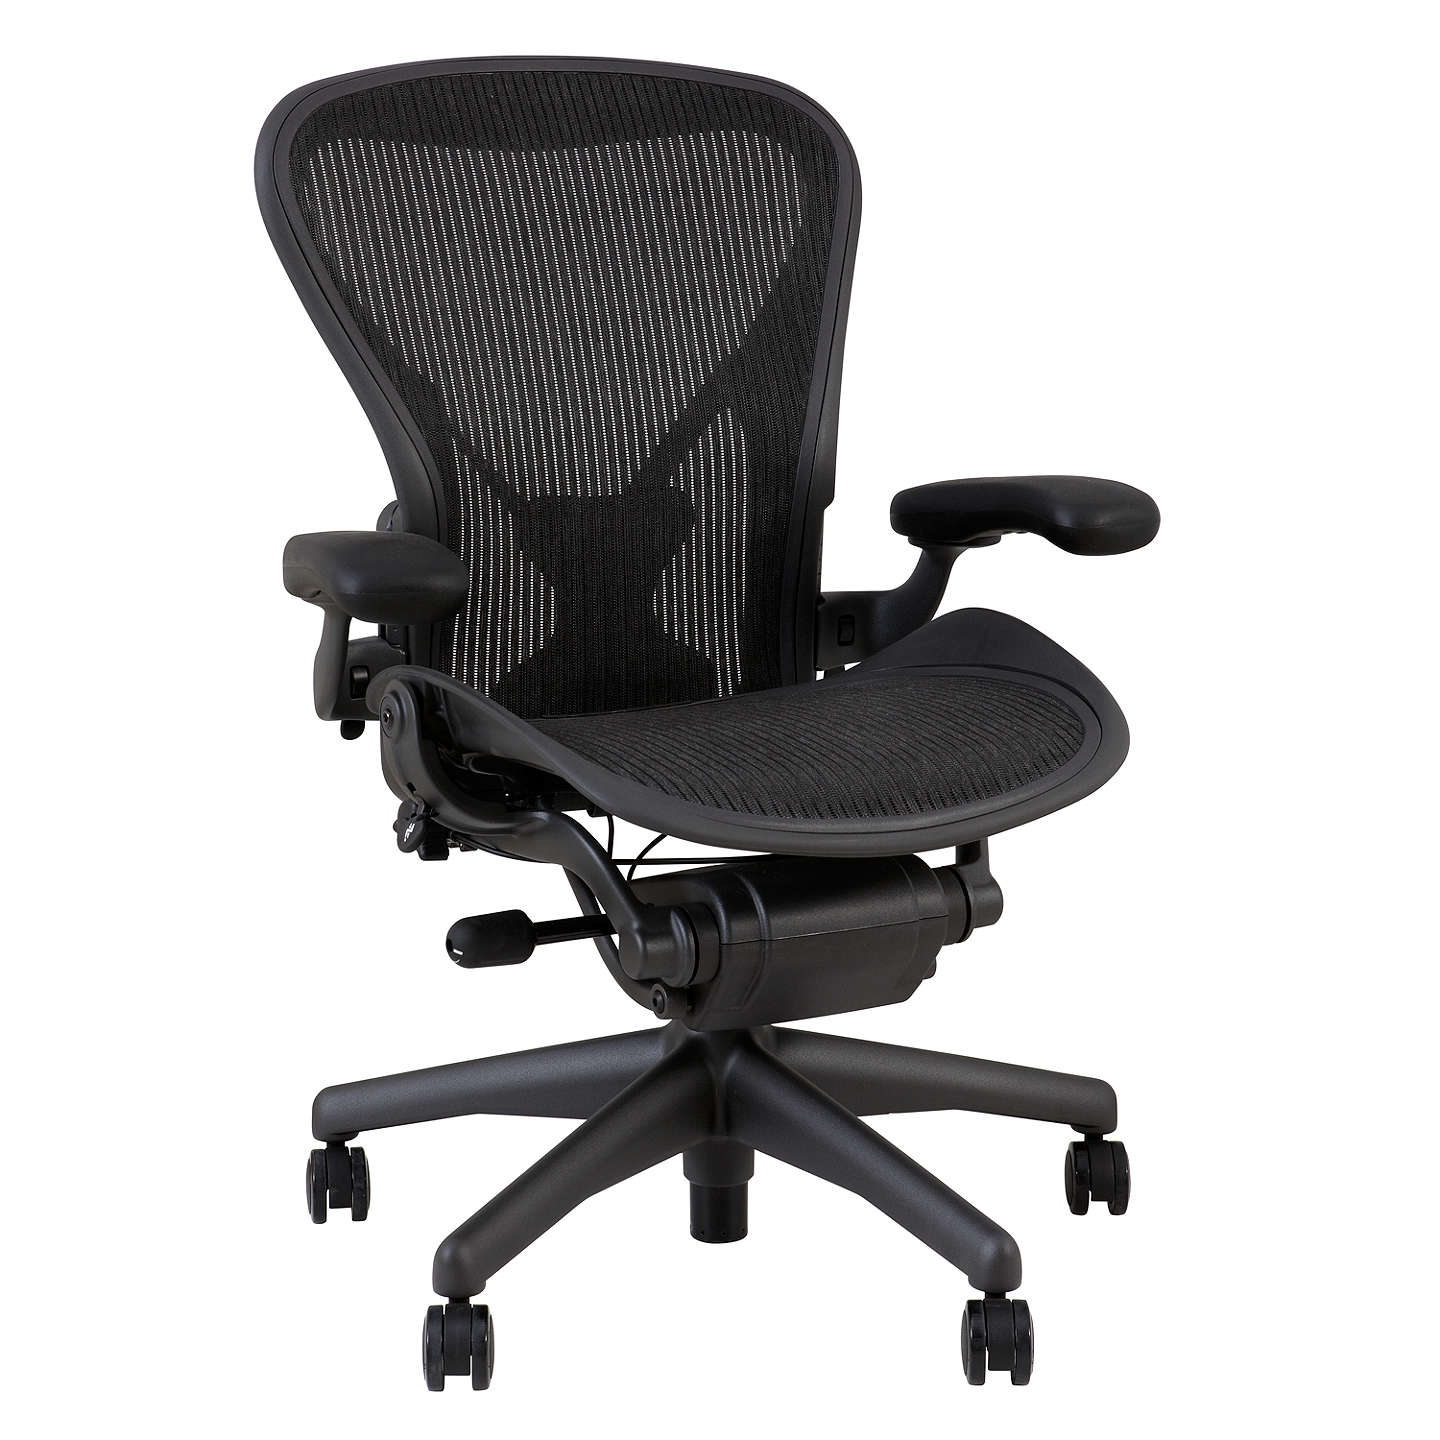chairs: (215, 40, 1164, 1406)
